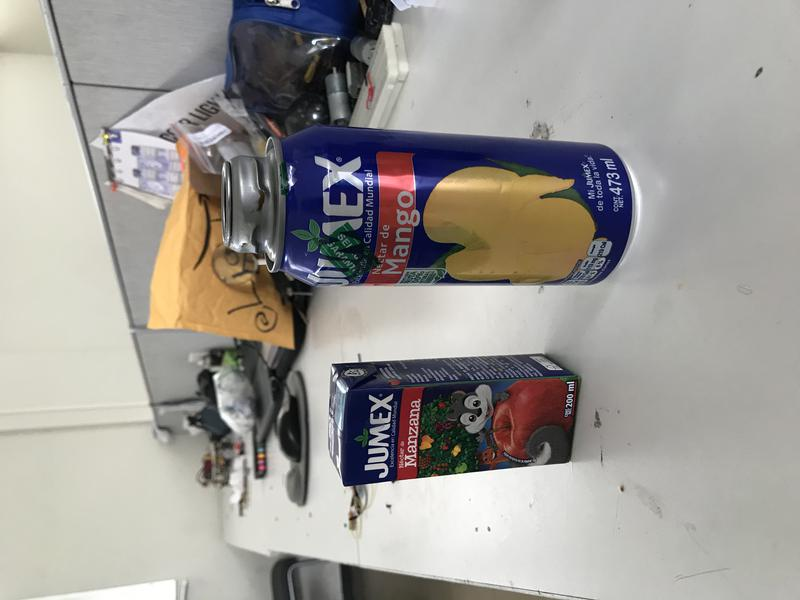jumex_botella: (222, 124, 644, 289)
jumex_cajita: (327, 354, 586, 487)
